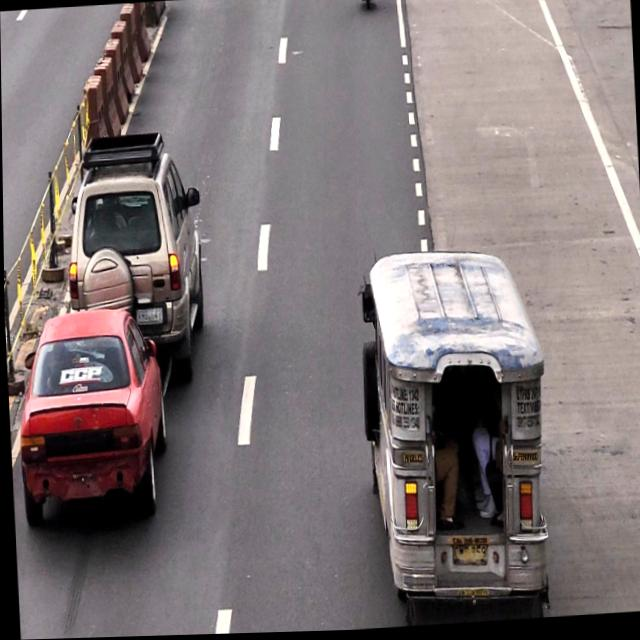Car: (69, 133, 205, 366), (16, 310, 164, 514)
Jeep: (359, 249, 549, 618)
License-Plate: (448, 540, 486, 574), (134, 307, 163, 324)
